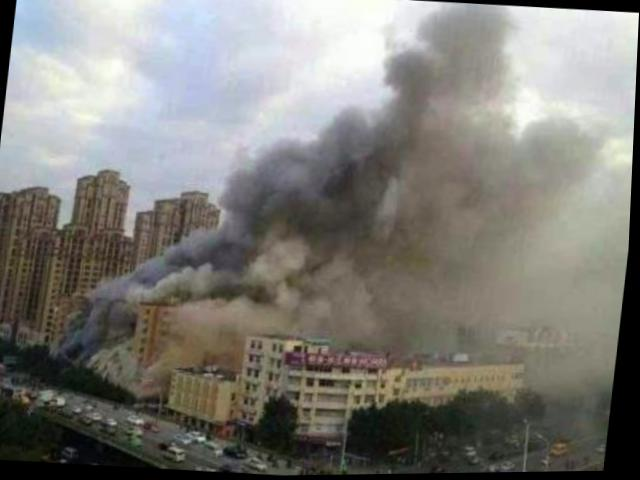smoke: (242, 106, 503, 357), (480, 89, 636, 367), (366, 0, 518, 124), (164, 170, 252, 365), (82, 256, 170, 358)
